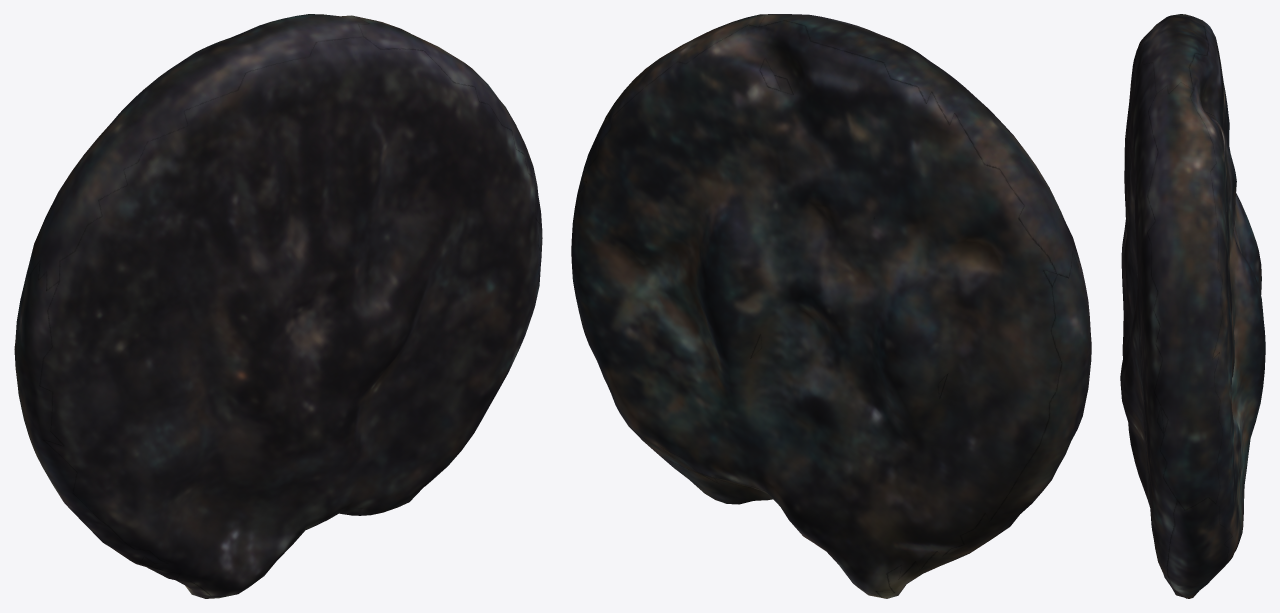
Rendered from moneta_aes_res.glb.
3 renders of one model, left to right at view 1: azimuth 30°, elevation 25°; view 2: azimuth 150°, elevation 25°; view 3: azimuth 270°, elevation 25°, orthographic. The views are drawn at different scales.
Visible parts, largest first — view 1: aes ultimo.002; view 2: aes ultimo.002; view 3: aes ultimo.002.
Boxes of the visible parts, bbox=[...] form: aes ultimo.002: bbox=[14, 14, 542, 598]; aes ultimo.002: bbox=[571, 14, 1091, 598]; aes ultimo.002: bbox=[1120, 14, 1265, 598].
Bounding box in the file's own units: 0.4258 × 0.4431 × 0.1057.
Materials: 1 (1 with a texture image).
